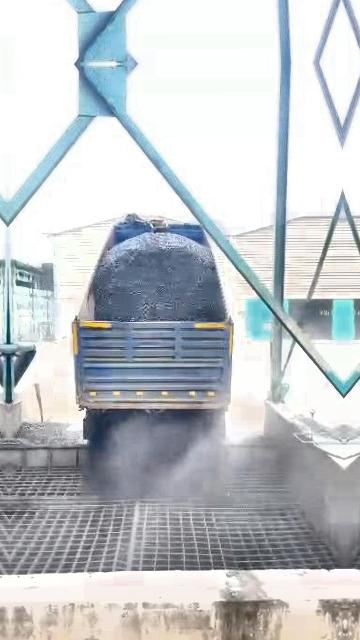gravel: (90, 233, 225, 321), (88, 411, 223, 494), (9, 421, 83, 446)
